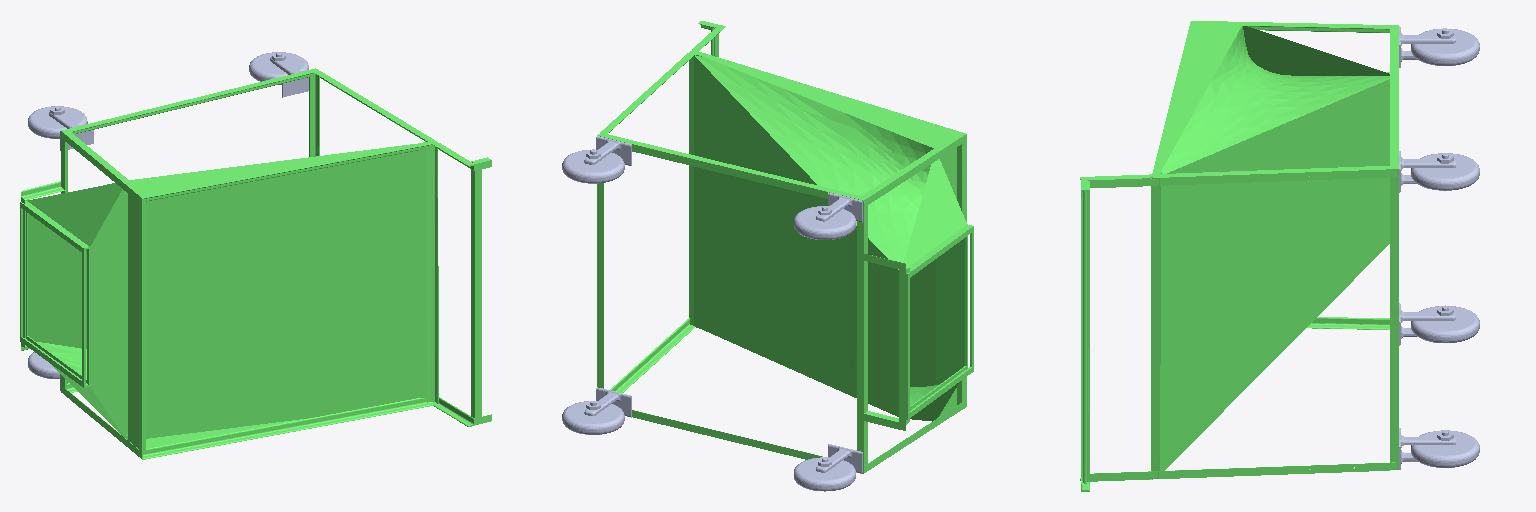
robot.urdf — Trolley_Complete_URDF:
<?xml version="1.0" encoding="utf-8"?>
<!-- This URDF was automatically created by SolidWorks to URDF Exporter! Originally created by [author] ([email redacted]) 
     Commit Version: 1.6.0-1-g15f4949  Build Version: 1.6.7594.29634
     For more information, please see http://wiki.ros.org/sw_urdf_exporter -->
<robot
  name="Trolley_Complete_URDF">
  <link
    name="base_link">
    <inertial>
      <origin
        xyz="0.270252556704773 0.51182160186921 0.715407298091814"
        rpy="0 0 0" />
      <mass
        value="1.30189171152403" />
      <inertia
        ixx="0.0331304005743222"
        ixy="7.82060880037623E-07"
        ixz="-0.00126164884827886"
        iyy="0.0253452320356869"
        iyz="1.00025568081305E-05"
        izz="0.0444866464705974" />
    </inertial>
    <visual>
      <origin
        xyz="0 0 0"
        rpy="0 0 0" />
      <geometry>
        <mesh
          filename="package://Trolley_Complete_URDF/meshes/base_link.STL" />
      </geometry>
      <material
        name="">
        <color
          rgba="0.501960784313725 1 0.501960784313725 1" />
      </material>
    </visual>
    <collision>
      <origin
        xyz="0 0 0"
        rpy="0 0 0" />
      <geometry>
        <mesh
          filename="package://Trolley_Complete_URDF/meshes/base_link.STL" />
      </geometry>
    </collision>
  </link>
  <link
    name="FR_link">
    <inertial>
      <origin
        xyz="9.098318749216E-05 -0.00897645127928853 -0.0281572259069433"
        rpy="0 0 0" />
      <mass
        value="0.663181313661936" />
      <inertia
        ixx="0.00104686841015958"
        ixy="1.39726235001382E-06"
        ixz="1.59848526115865E-10"
        iyy="0.00090902790905592"
        iyz="-7.35257122351112E-13"
        izz="0.00177678489777192" />
    </inertial>
    <visual>
      <origin
        xyz="0 0 0"
        rpy="0 0 0" />
      <geometry>
        <mesh
          filename="package://Trolley_Complete_URDF/meshes/FR_link.STL" />
      </geometry>
      <material
        name="">
        <color
          rgba="0.792156862745098 0.819607843137255 0.933333333333333 1" />
      </material>
    </visual>
    <collision>
      <origin
        xyz="0 0 0"
        rpy="0 0 0" />
      <geometry>
        <mesh
          filename="package://Trolley_Complete_URDF/meshes/FR_link.STL" />
      </geometry>
    </collision>
  </link>
  <joint
    name="Front_Right_Wheel"
    type="revolute">
    <origin
      xyz="-0.032299 -0.32318 0.88418"
      rpy="0 0 -0.010135" />
    <parent
      link="base_link" />
    <child
      link="FR_link" />
    <axis
      xyz="0 0 0" />
    <limit
      lower="0"
      upper="0"
      effort="0"
      velocity="0" />
  </joint>
  <link
    name="FL_Link">
    <inertial>
      <origin
        xyz="9.09832889947719E-05 -0.00897645198187874 -0.0281572257472024"
        rpy="0 0 0" />
      <mass
        value="0.663181320216522" />
      <inertia
        ixx="0.00104686841514304"
        ixy="1.3972637461221E-06"
        ixz="1.58804325864757E-10"
        iyy="0.000909027911414302"
        iyz="1.60960464801924E-12"
        izz="0.00177678490158222" />
    </inertial>
    <visual>
      <origin
        xyz="0 0 0"
        rpy="0 0 0" />
      <geometry>
        <mesh
          filename="package://Trolley_Complete_URDF/meshes/FL_Link.STL" />
      </geometry>
      <material
        name="">
        <color
          rgba="0.792156862745098 0.819607843137255 0.933333333333333 1" />
      </material>
    </visual>
    <collision>
      <origin
        xyz="0 0 0"
        rpy="0 0 0" />
      <geometry>
        <mesh
          filename="package://Trolley_Complete_URDF/meshes/FL_Link.STL" />
      </geometry>
    </collision>
  </link>
  <joint
    name="Front_Left_Wheel"
    type="revolute">
    <origin
      xyz="-0.032299 -0.32318 0.19418"
      rpy="0 0 -0.010135" />
    <parent
      link="base_link" />
    <child
      link="FL_Link" />
    <axis
      xyz="0 0 0" />
    <limit
      lower="0"
      upper="0"
      effort="0"
      velocity="0" />
  </joint>
  <link
    name="RR_Link">
    <inertial>
      <origin
        xyz="9.09832914566255E-05 -0.00897645047487916 -0.028157225726175"
        rpy="0 0 0" />
      <mass
        value="0.663181306301882" />
      <inertia
        ixx="0.00104686840394144"
        ixy="1.39726405510478E-06"
        ixz="1.61067986753676E-10"
        iyy="0.000909027906287309"
        iyz="2.16110729638094E-12"
        izz="0.00177678489296504" />
    </inertial>
    <visual>
      <origin
        xyz="0 0 0"
        rpy="0 0 0" />
      <geometry>
        <mesh
          filename="package://Trolley_Complete_URDF/meshes/RR_Link.STL" />
      </geometry>
      <material
        name="">
        <color
          rgba="0.792156862745098 0.819607843137255 0.933333333333333 1" />
      </material>
    </visual>
    <collision>
      <origin
        xyz="0 0 0"
        rpy="0 0 0" />
      <geometry>
        <mesh
          filename="package://Trolley_Complete_URDF/meshes/RR_Link.STL" />
      </geometry>
    </collision>
  </link>
  <joint
    name="Rear_Right_Wheel"
    type="revolute">
    <origin
      xyz="0.6327 -0.32318 0.88418"
      rpy="0 0 -0.010135" />
    <parent
      link="base_link" />
    <child
      link="RR_Link" />
    <axis
      xyz="0 0 0" />
    <limit
      lower="0"
      upper="0"
      effort="0"
      velocity="0" />
  </joint>
  <link
    name="RL_Link">
    <inertial>
      <origin
        xyz="9.0983288994817E-05 -0.0089764519818788 -0.0281572257472024"
        rpy="0 0 0" />
      <mass
        value="0.663181320216522" />
      <inertia
        ixx="0.00104686841514304"
        ixy="1.39726374612197E-06"
        ixz="1.58804325863694E-10"
        iyy="0.000909027911414302"
        iyz="1.60960466172491E-12"
        izz="0.00177678490158222" />
    </inertial>
    <visual>
      <origin
        xyz="0 0 0"
        rpy="0 0 0" />
      <geometry>
        <mesh
          filename="package://Trolley_Complete_URDF/meshes/RL_Link.STL" />
      </geometry>
      <material
        name="">
        <color
          rgba="0.792156862745098 0.819607843137255 0.933333333333333 1" />
      </material>
    </visual>
    <collision>
      <origin
        xyz="0 0 0"
        rpy="0 0 0" />
      <geometry>
        <mesh
          filename="package://Trolley_Complete_URDF/meshes/RL_Link.STL" />
      </geometry>
    </collision>
  </link>
  <joint
    name="Rear_Left_Wheel"
    type="revolute">
    <origin
      xyz="0.6327 -0.32318 0.19418"
      rpy="0 0 -0.010135" />
    <parent
      link="base_link" />
    <child
      link="RL_Link" />
    <axis
      xyz="0 0 0" />
    <limit
      lower="0"
      upper="0"
      effort="0"
      velocity="0" />
  </joint>
</robot>

--- Facts derived from the render (not from the file) ---
The picture shows the robot from 3 angles, left to right: view 1: azimuth 30°, elevation 25°; view 2: azimuth 150°, elevation 25°; view 3: azimuth 270°, elevation 25°; orthographic projection.
Robot: Trolley_Complete_URDF — 5 links, 4 joints (4 revolute); root link base_link; default pose: all joints at 0.
Links seen in each view (by area): view 1: base_link, RR_Link, FR_link, FL_Link; view 2: base_link, RL_Link, RR_Link, FR_link, FL_Link; view 3: base_link, RR_Link, FR_link, FL_Link, RL_Link.
Link boxes in pixels (x1,y1,x2,y2): base_link: (20,68,491,459); RR_Link: (249,52,308,97); FR_link: (28,106,93,150); FL_Link: (28,352,68,390); base_link: (597,21,973,473); RL_Link: (562,387,631,434); RR_Link: (562,136,631,183); FR_link: (794,192,862,239); FL_Link: (794,444,862,491); base_link: (1080,21,1398,491); RR_Link: (1399,151,1479,192); FR_link: (1399,26,1479,67); FL_Link: (1399,303,1479,345); RL_Link: (1399,428,1479,469).
Bounding box of the posed robot: 1 × 0.902 × 0.768 m (x, y, z).
5 mesh visuals loaded from 5 distinct referenced files (5 binary STL).